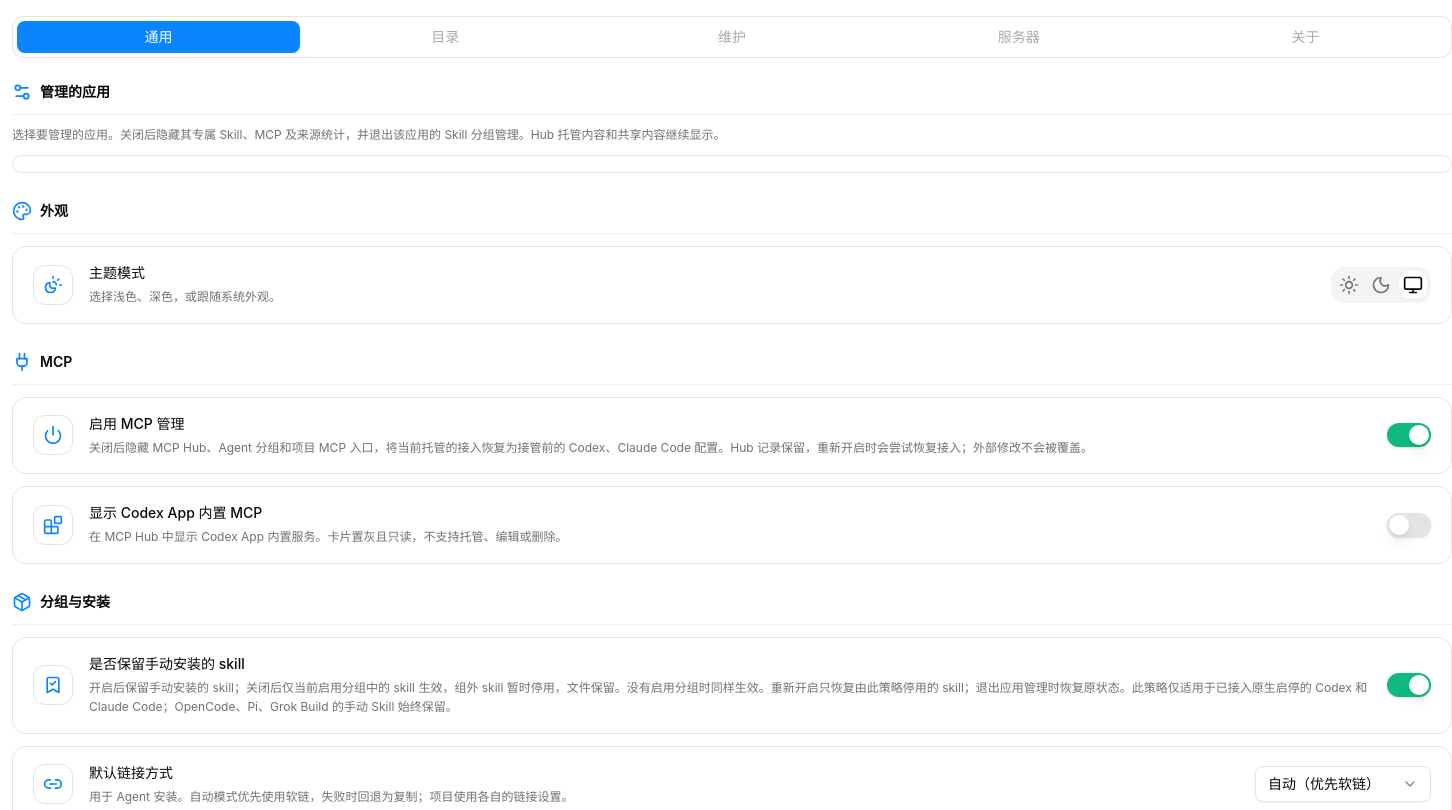
switches MCP management independently and hides MCP-only preferences while off
The image size is (1452, 810).
Click the switch named "启用 MCP 管理" in the row of "启用 MCP 管理" at (1409, 435), box 1387,423 -> 1431,447
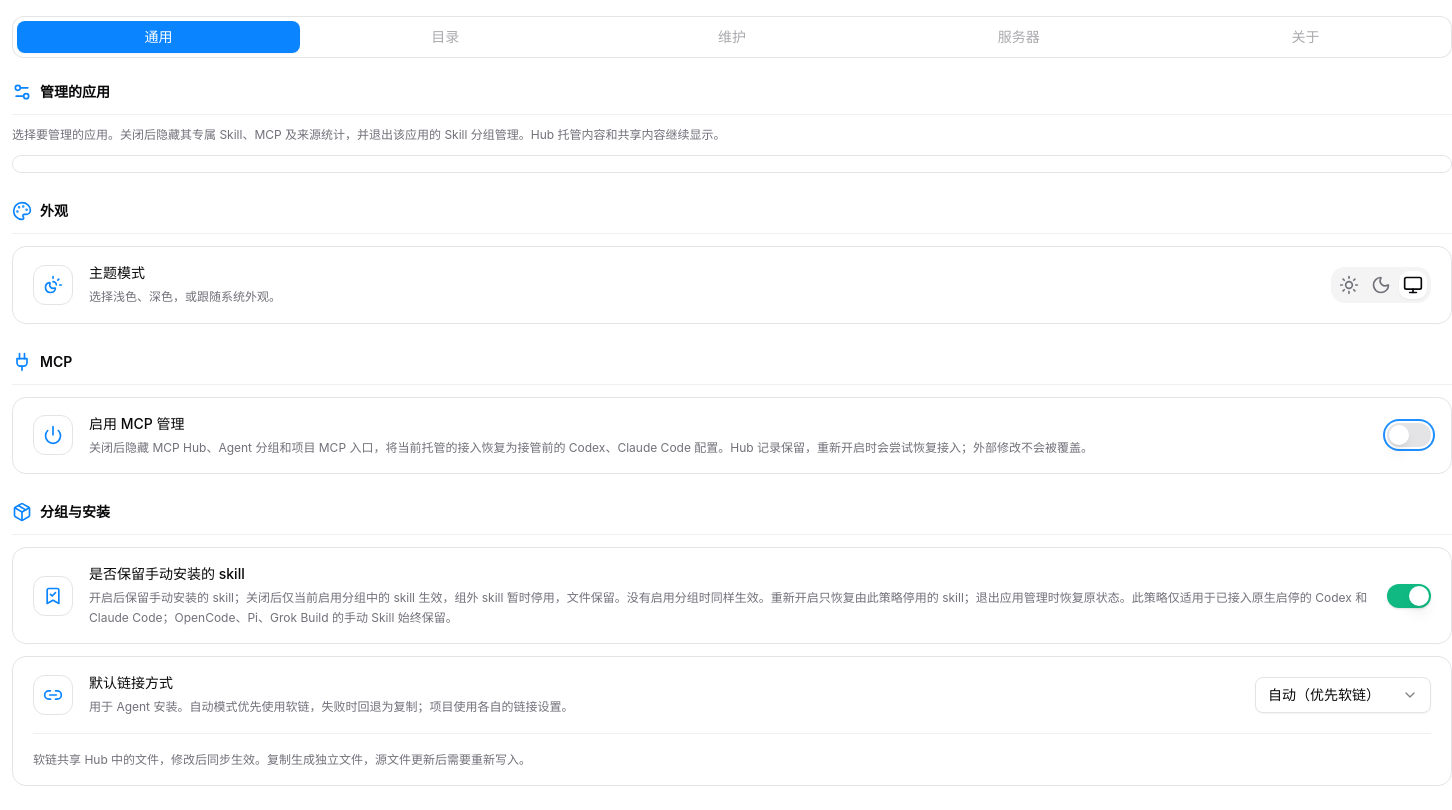
Now the switch named "启用 MCP 管理" in the row of "启用 MCP 管理" is not checked
Now the label "显示 Codex App 内置 MCP" is gone
Click the switch named "启用 MCP 管理" in the row of "启用 MCP 管理" at (1409, 435), box 1387,423 -> 1431,447
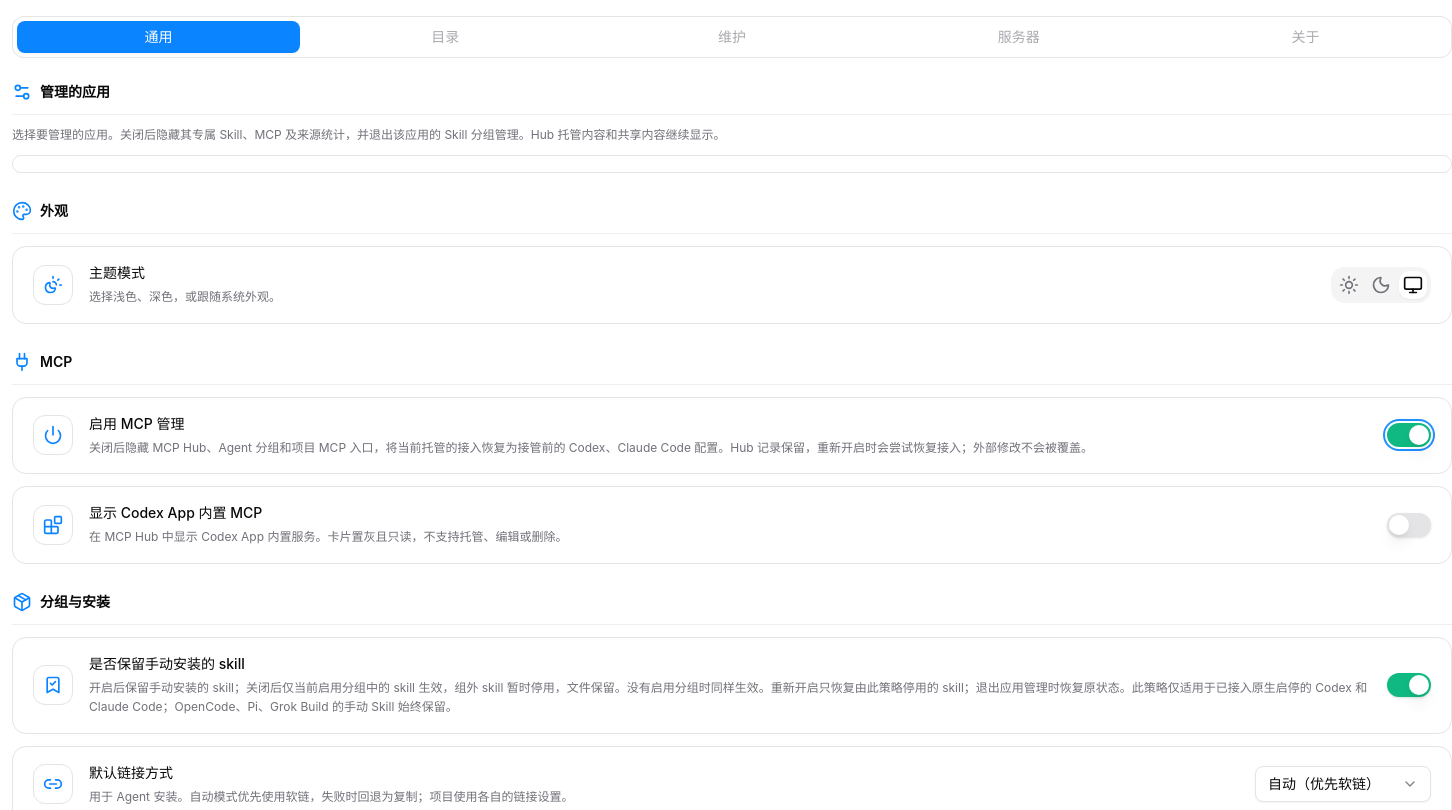
Now the switch named "启用 MCP 管理" in the row of "启用 MCP 管理" is checked, box 1387,423 -> 1431,447
Now the switch named "显示 Codex App 内置 MCP" in the row of "显示 Codex App 内置 MCP" is shown, box 1387,513 -> 1431,537
